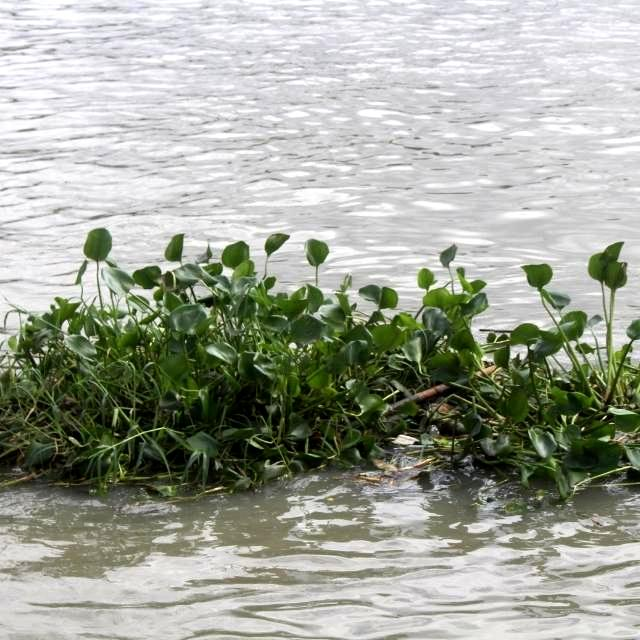water-hyacinth: (2, 223, 640, 502)
